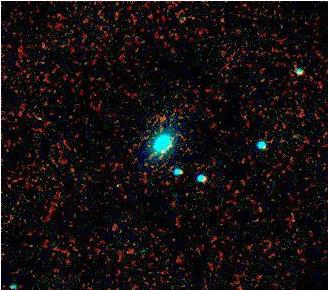star: (26, 105, 56, 135)
